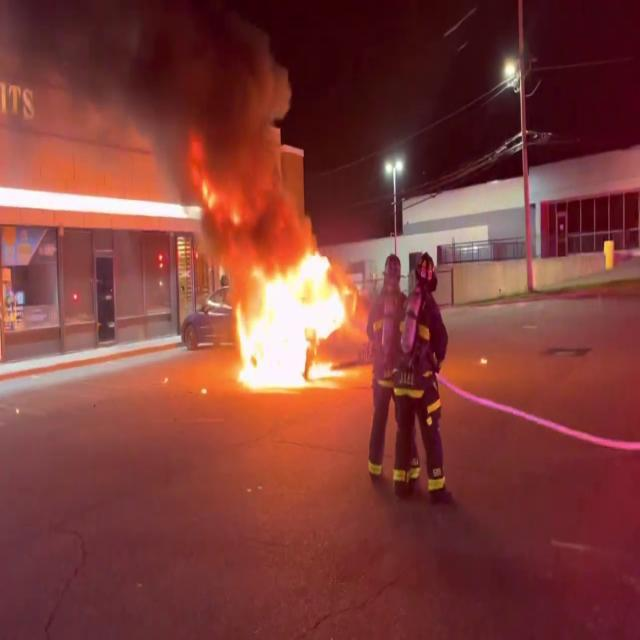Fire: (228, 240, 362, 391)
Smoke: (0, 0, 315, 203)
